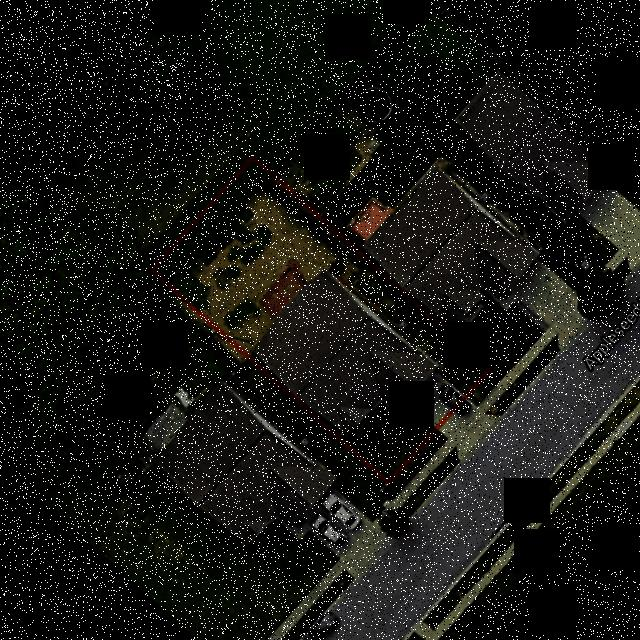Driveway: (406, 370, 463, 428)
Extra Driveway: (437, 397, 501, 463)
Extra Lawn: (387, 432, 446, 494), (405, 446, 458, 509), (467, 370, 498, 405), (486, 387, 517, 414)
Extra Sidewalk: (397, 438, 455, 502), (477, 381, 506, 412)
House: (250, 264, 438, 437)
Sidewalk: (350, 398, 418, 438)
